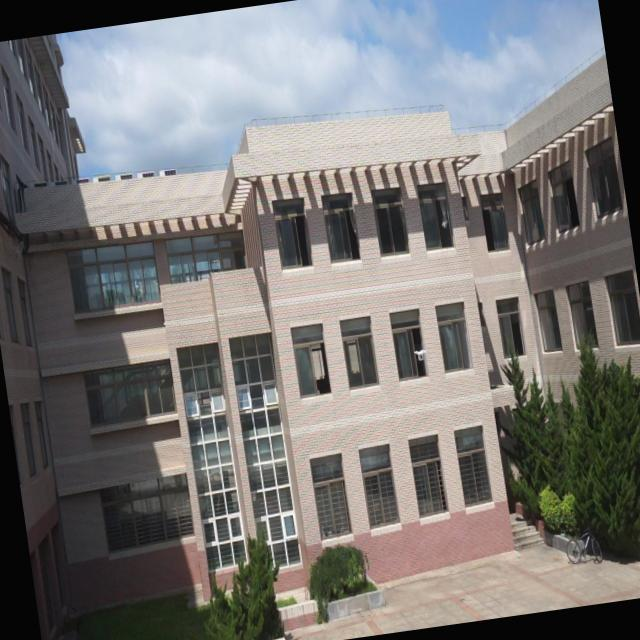drone: (412, 346, 430, 364)
